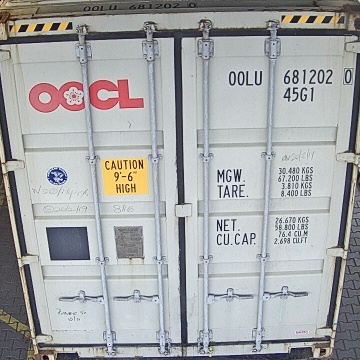serial_id: (229, 68, 353, 85)
